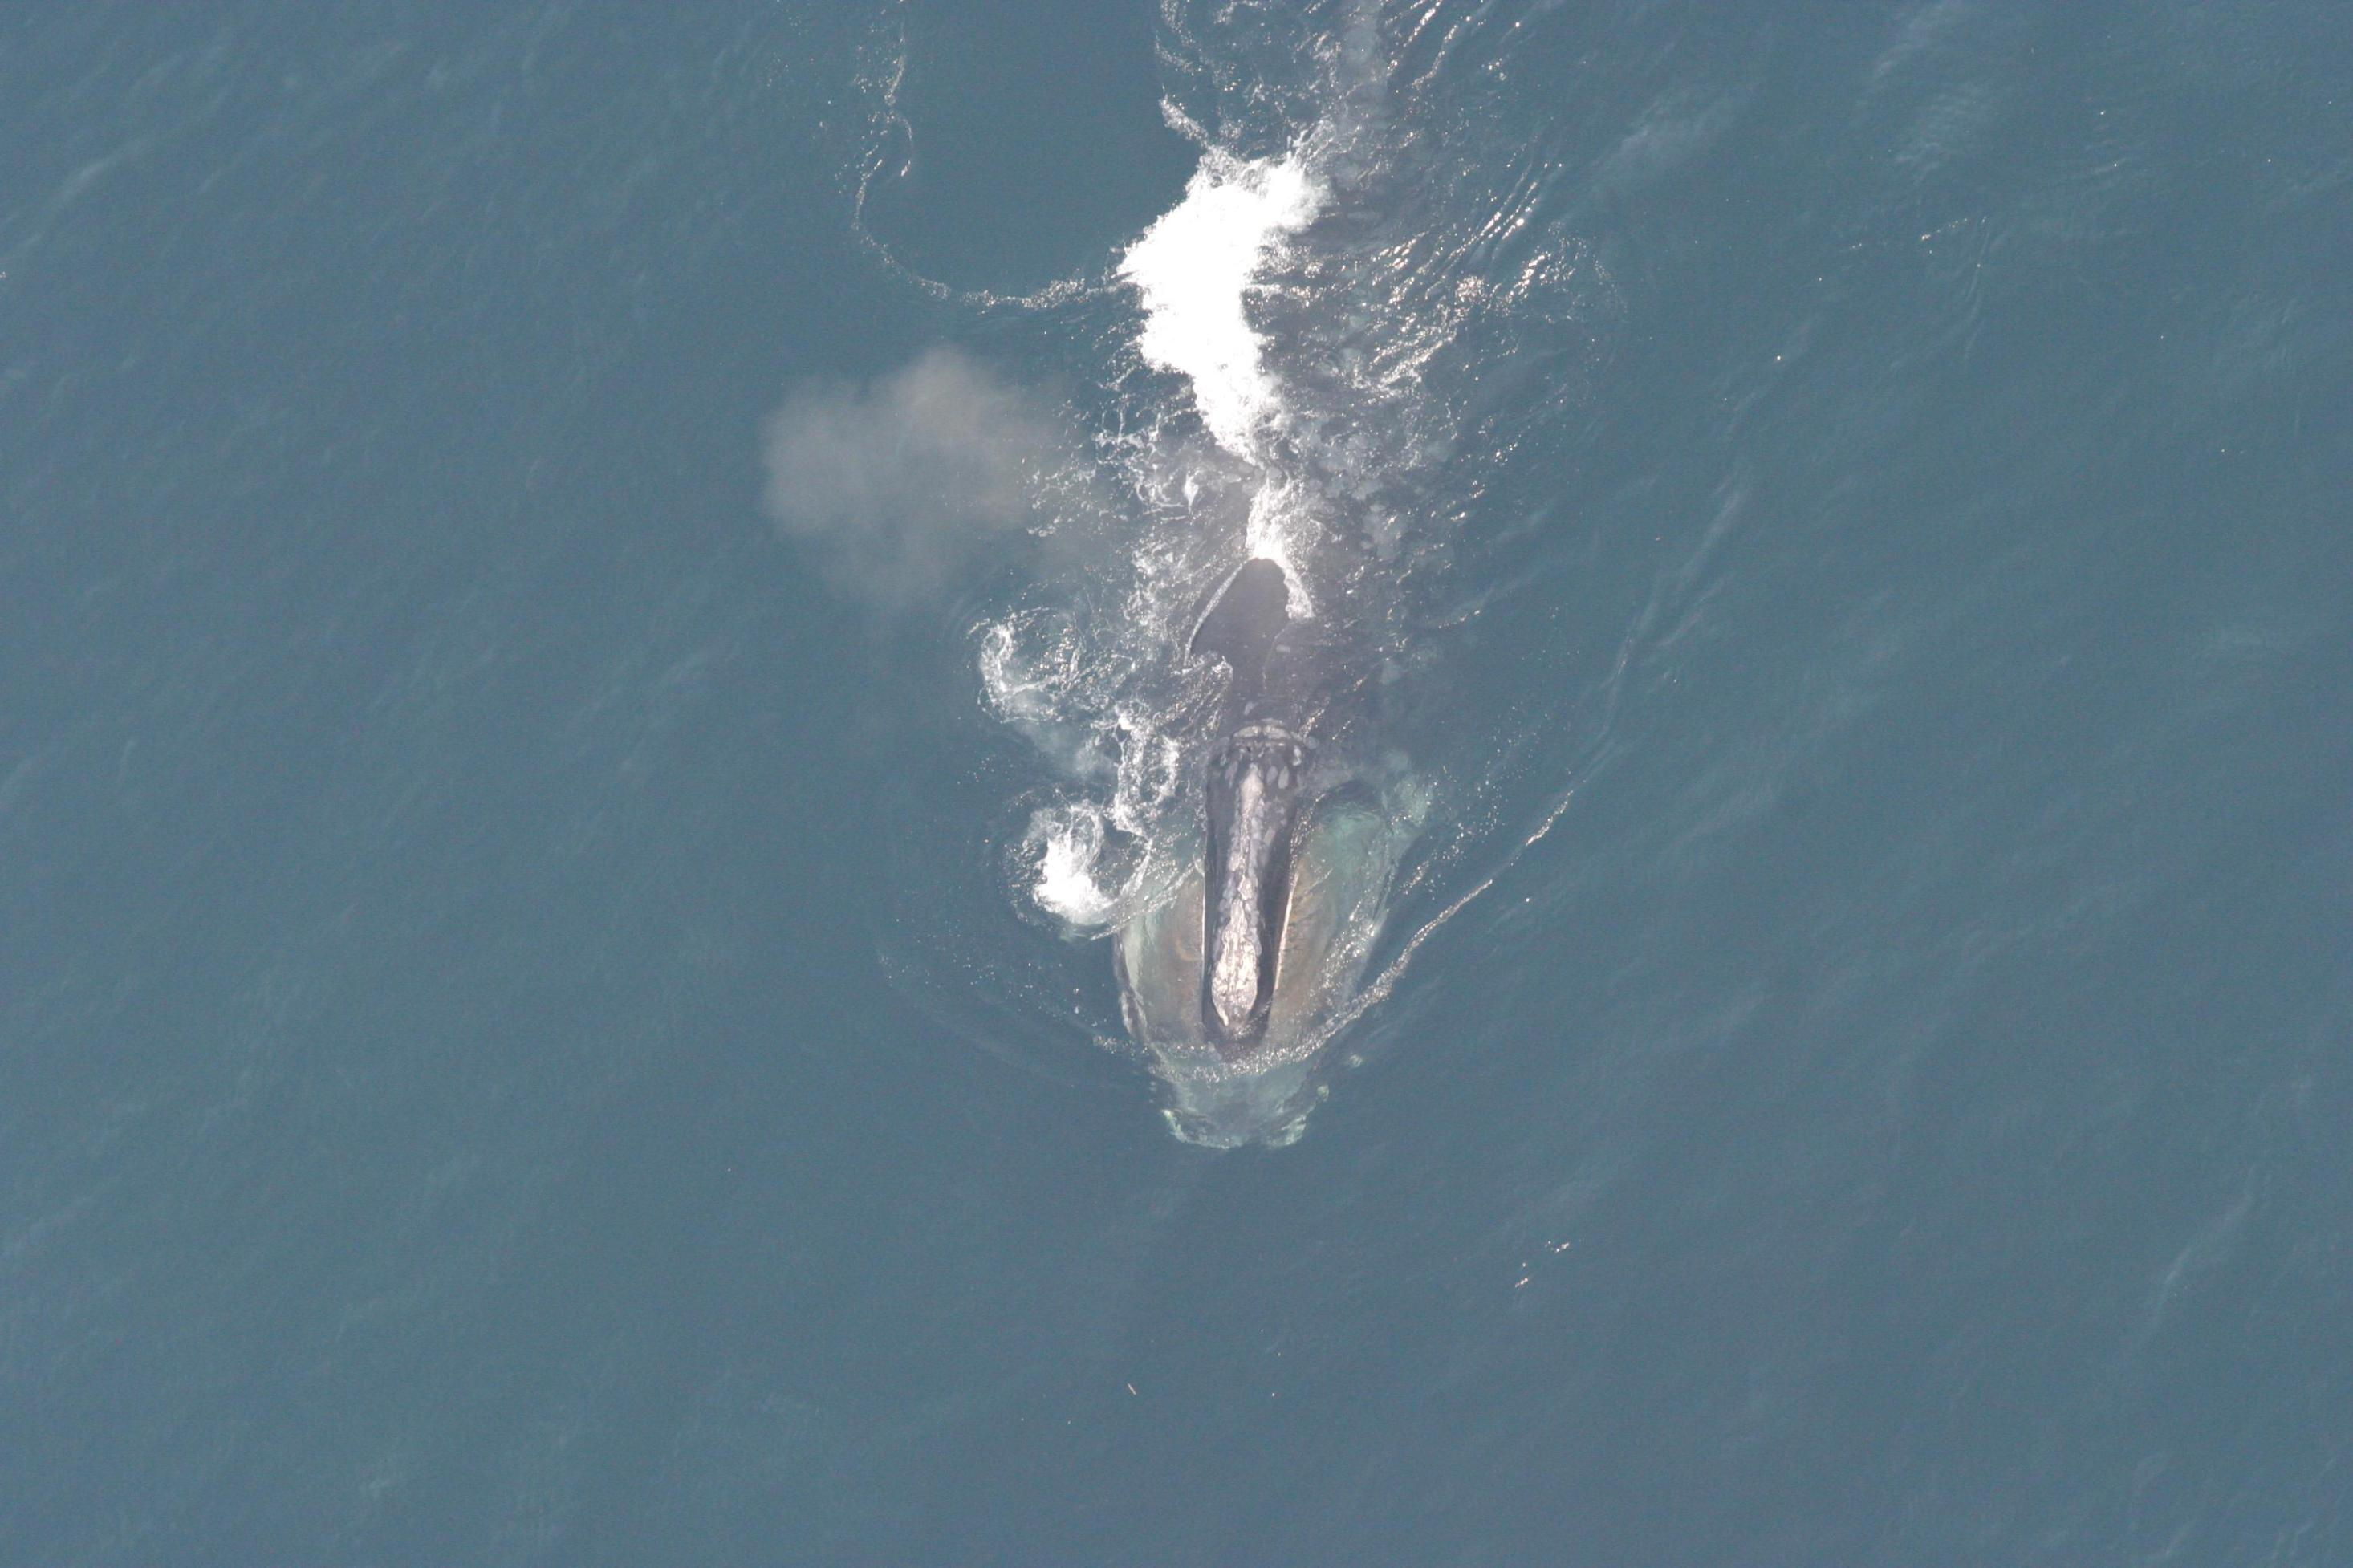whale: (1053, 17, 1517, 1155)
